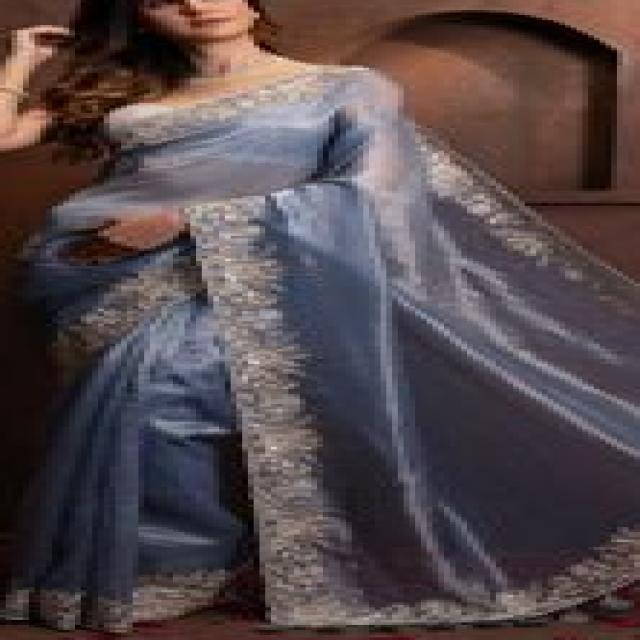Saree: (0, 60, 640, 632)
